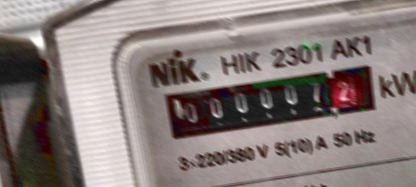0: (181, 98, 198, 124), (257, 85, 274, 110), (233, 89, 249, 114), (282, 81, 298, 105), (207, 95, 223, 118)
2: (335, 78, 351, 102)
7: (308, 78, 323, 103)
screen: (153, 53, 387, 148)
